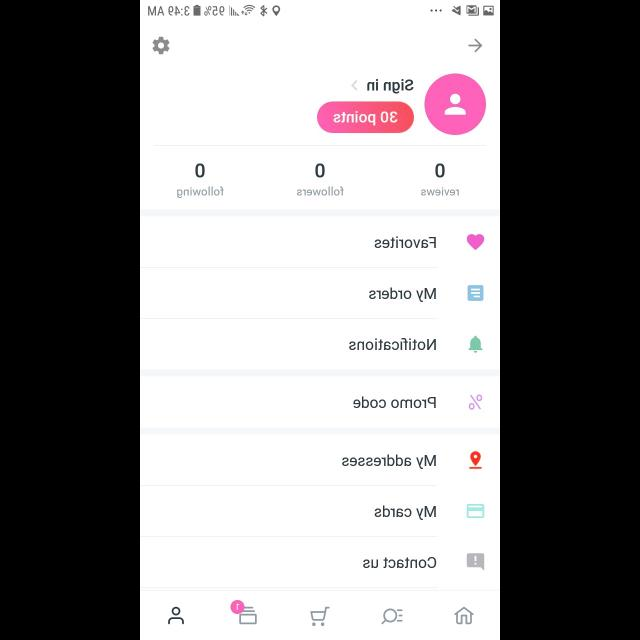icon: (424, 73, 486, 135), (230, 600, 258, 624), (310, 606, 330, 626), (381, 609, 403, 625), (453, 606, 472, 624), (466, 553, 484, 571), (153, 37, 170, 55), (168, 607, 184, 625), (466, 234, 484, 250), (467, 285, 483, 301), (466, 504, 484, 518), (468, 451, 482, 469), (468, 335, 482, 353), (468, 39, 482, 53), (350, 80, 358, 92)
image: (468, 394, 482, 410)
text: (342, 454, 436, 470), (348, 338, 436, 350), (352, 396, 436, 408), (368, 288, 436, 302), (362, 556, 436, 568), (374, 506, 436, 520), (366, 78, 414, 94), (374, 236, 436, 248), (176, 186, 224, 198), (296, 187, 344, 197), (421, 187, 459, 196), (435, 162, 445, 178), (315, 164, 325, 178), (195, 164, 205, 178)
textbutton: (316, 102, 414, 134)
uppertaskbar: (140, 1, 500, 18)
